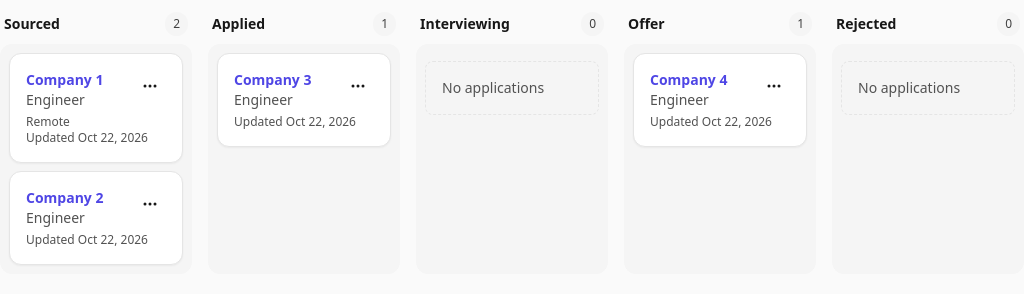
Test case: ApplicationBoard › picking a status from a card's Move menu moves it
The width and height of the screenshot is (1024, 294).
Click the button named "Move Company 3 · Engineer".
click(358, 86)  # box [342,70,374,102]
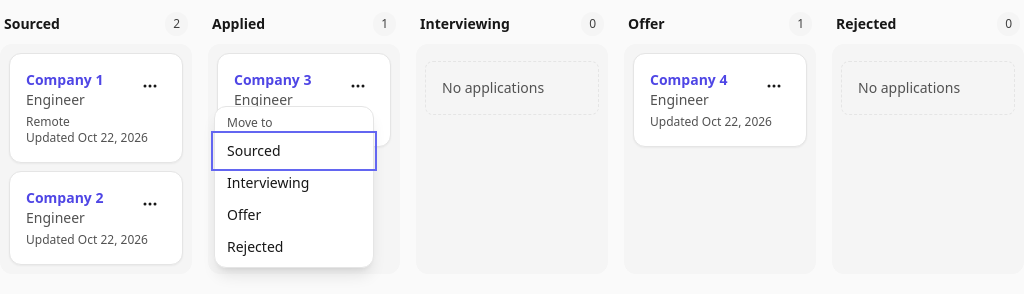
Now the menu items read "Sourced", "Interviewing", "Offer", "Rejected", in this order
Click the menu item "Offer".
click(294, 215)  # box [215,199,373,231]
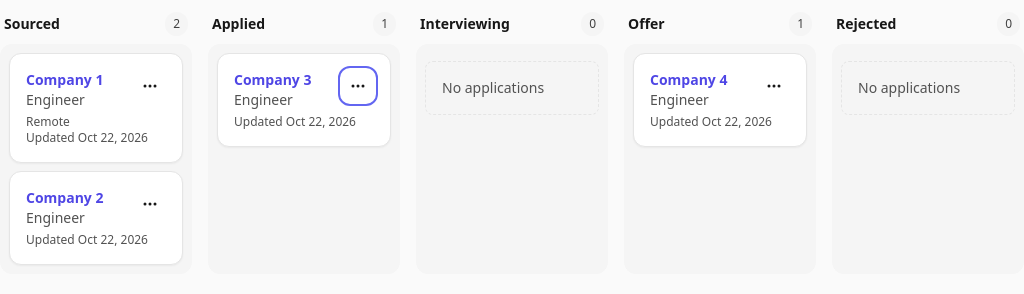
Now the menu is gone
